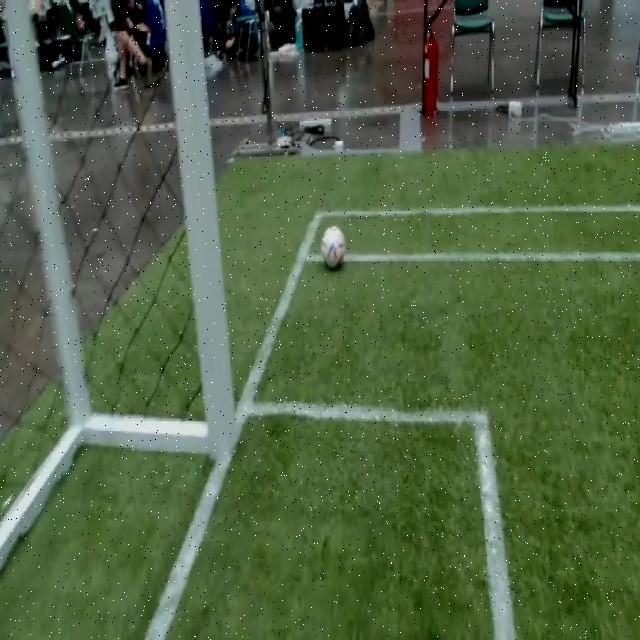ball: (321, 225, 345, 268)
goalpost: (198, 333, 244, 477)
